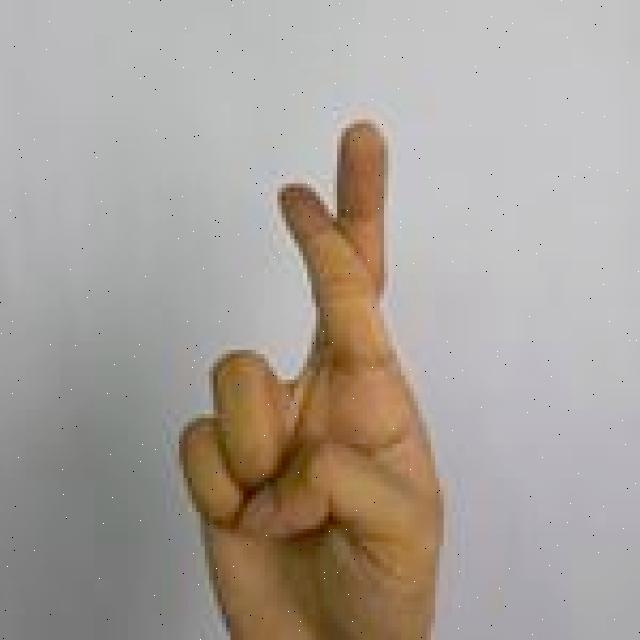R: (176, 110, 450, 640)
